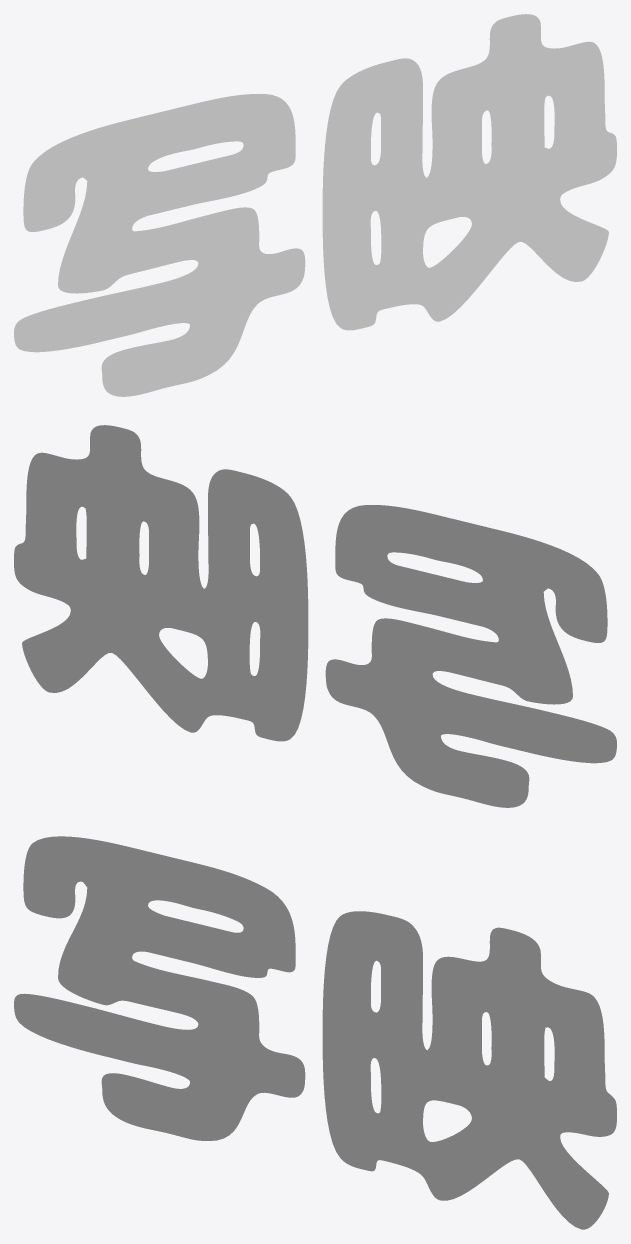
The model's file is Text_Title.obj.
The picture shows the model from 3 angles, top to bottom: view 1: azimuth 30°, elevation 25°; view 2: azimuth 150°, elevation 25°; view 3: azimuth 330°, elevation 25°; orthographic projection.
Parts seen in each view (by area): view 1: テキスト; view 2: テキスト; view 3: テキスト.
Boxes of the visible parts, <box> form: テキスト: <box>14,14,616,396</box>; テキスト: <box>14,425,616,807</box>; テキスト: <box>14,836,616,1229</box>.
Size of the model in its own units: 1.52 by 0.692 by 0.
Materials: 1 (1 with a texture image).
